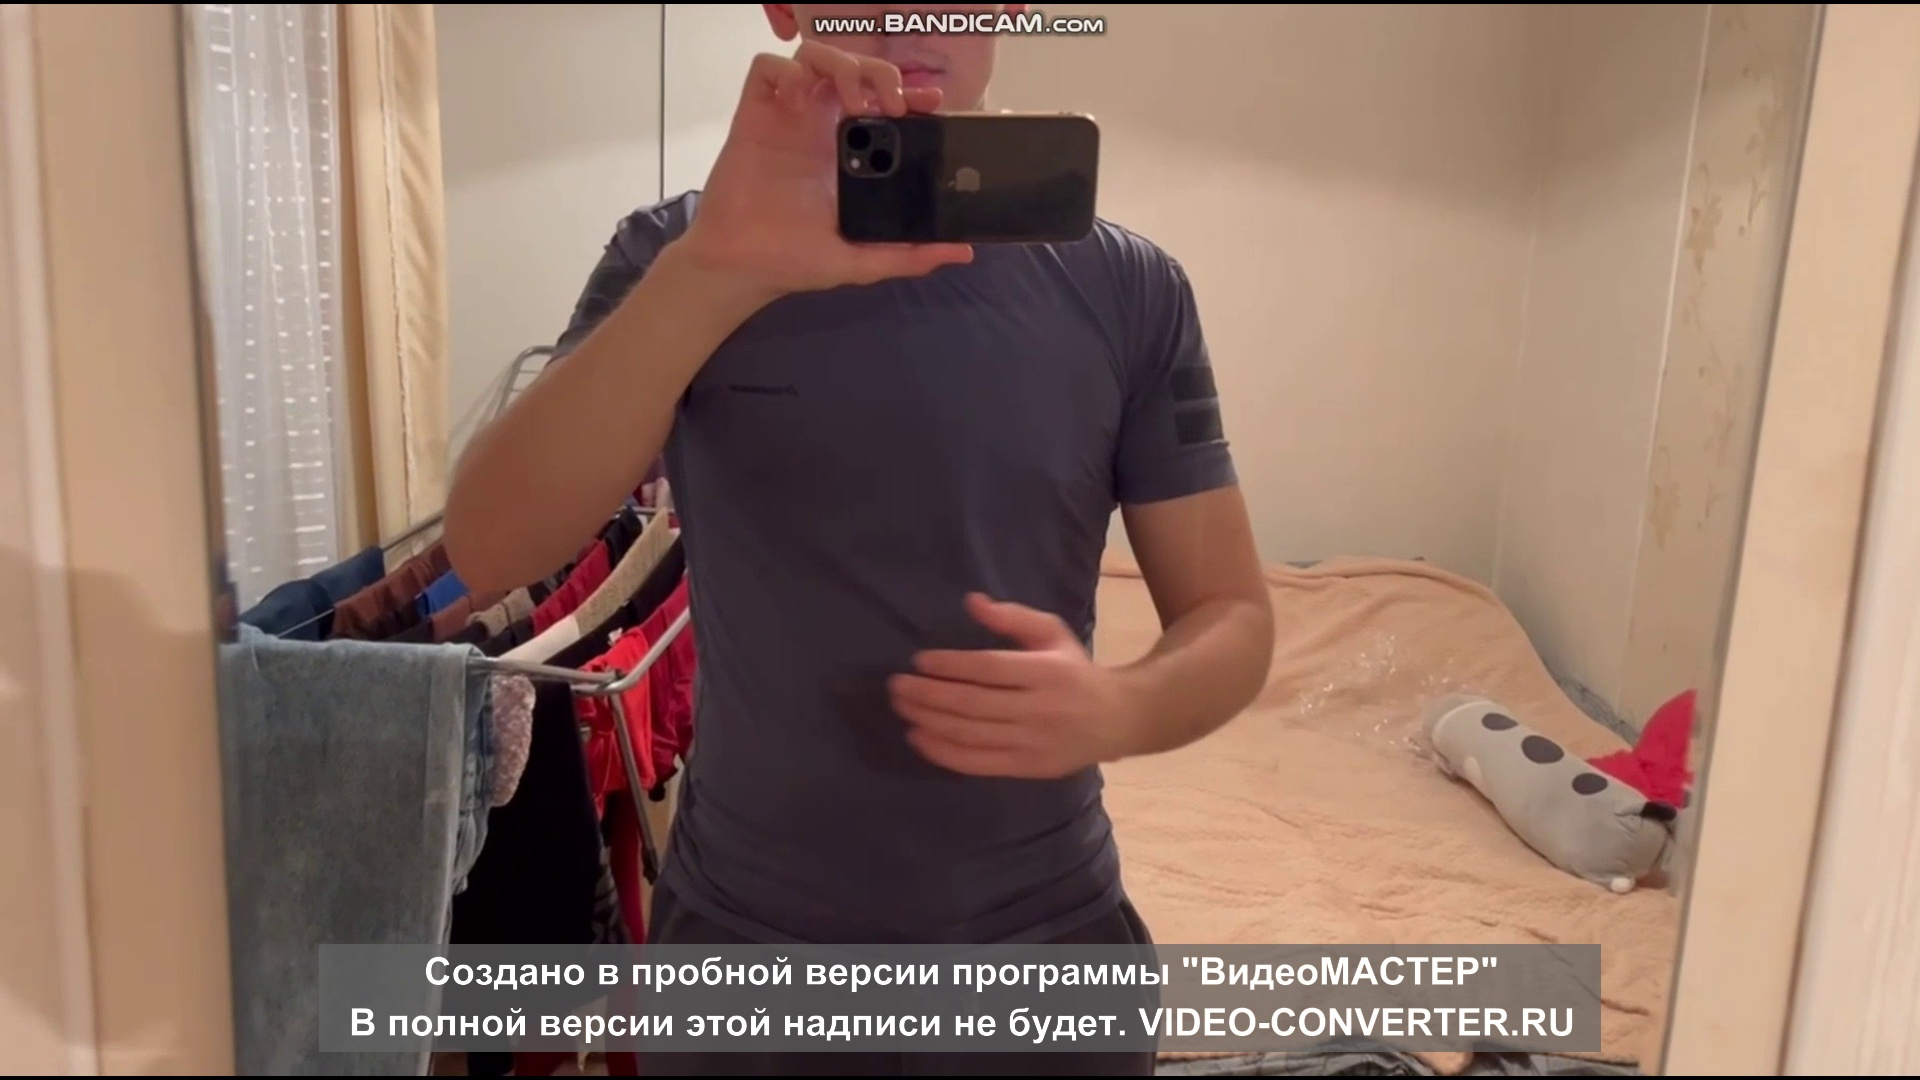Кисть: (884, 584, 1098, 777)
